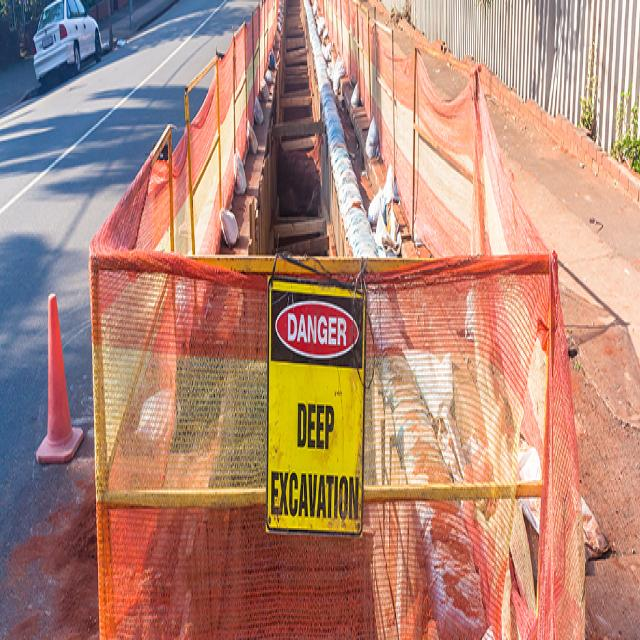cone: (87, 0, 569, 635)
